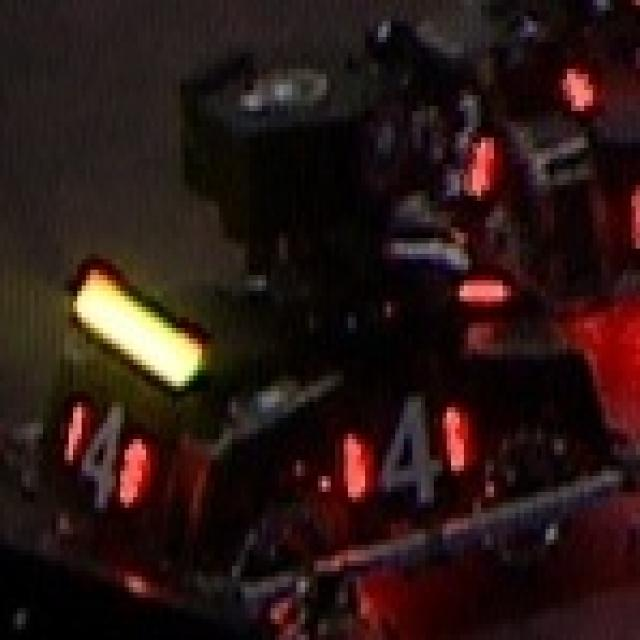R4: (340, 391, 472, 508), (60, 397, 150, 513)
